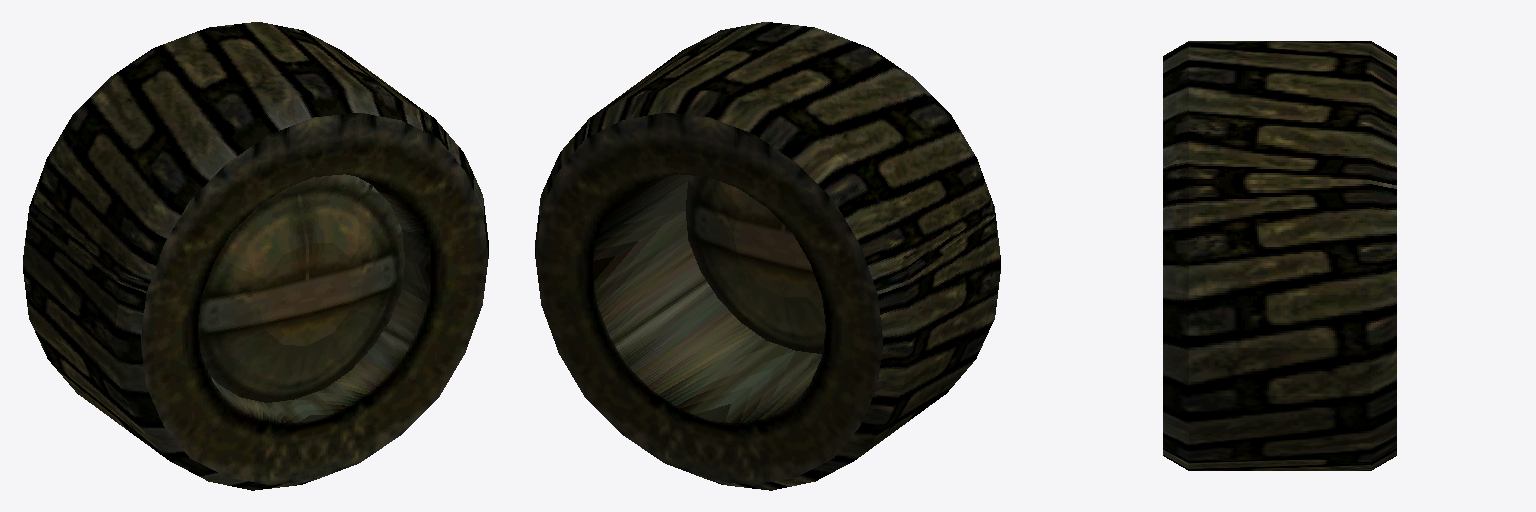
3 views of the same model, side by side, from view 1: azimuth 30°, elevation 25°; view 2: azimuth 150°, elevation 25°; view 3: azimuth 270°, elevation 25° (orthographic).
Parts seen in each view (by area): view 1: C:\Games\Battle\stuff\warthdog\t; view 2: C:\Games\Battle\stuff\warthdog\t; view 3: C:\Games\Battle\stuff\warthdog\t.
Boxes of the visible parts, <box> form: C:\Games\Battle\stuff\warthdog\t: <box>23,22,488,490</box>; C:\Games\Battle\stuff\warthdog\t: <box>535,22,1000,490</box>; C:\Games\Battle\stuff\warthdog\t: <box>1163,41,1396,470</box>.
Bounding box in the file's own units: 1.9 × 1.9 × 1.03.
1 materials, 1 textured.